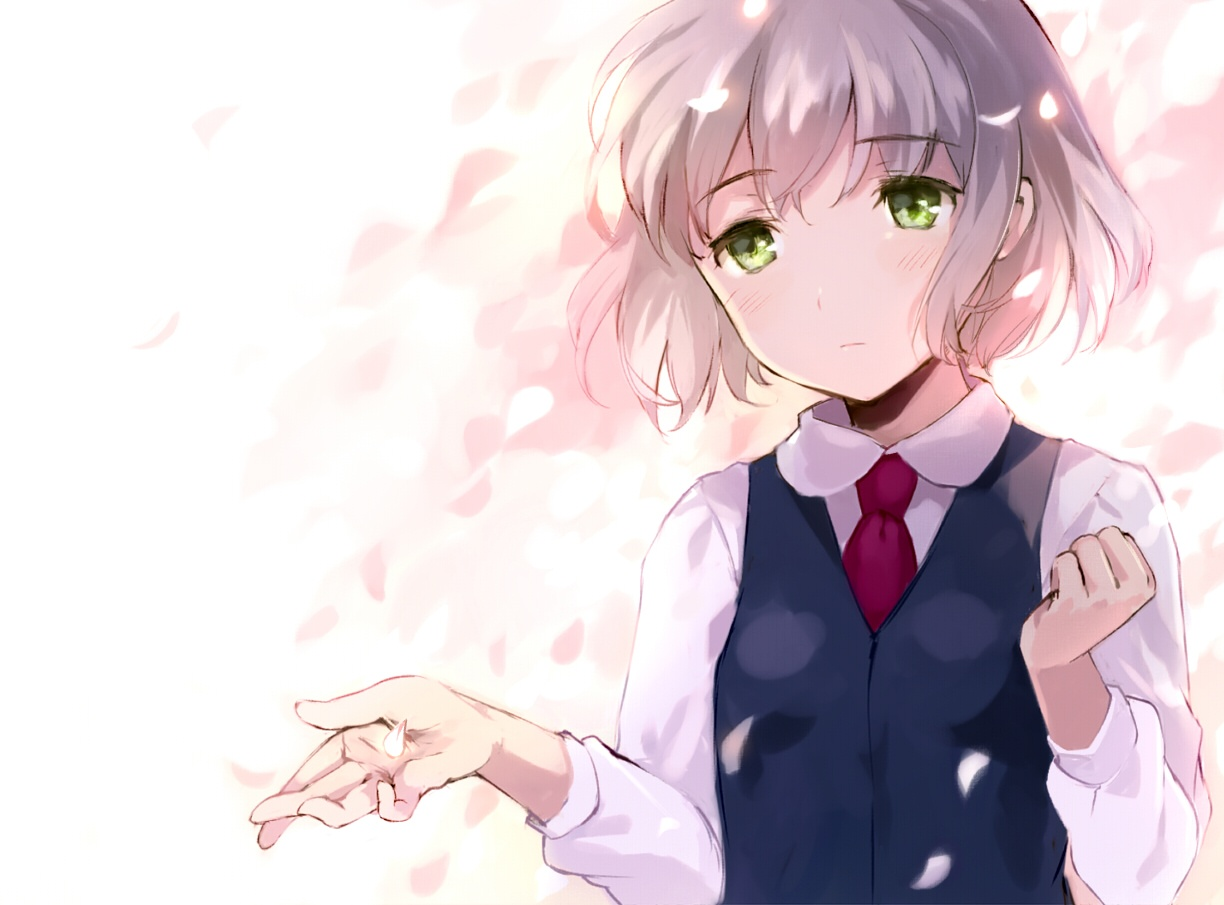纸片人正脸: (631, 0, 1050, 407)
